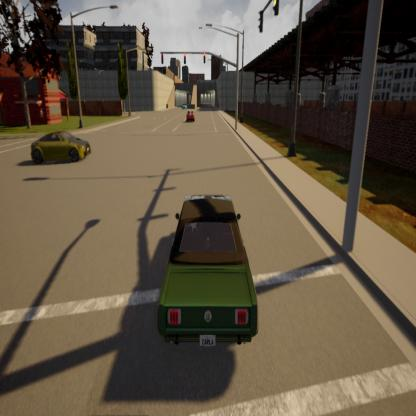Cars: (143, 177, 265, 364), (31, 119, 96, 177), (186, 108, 196, 124), (181, 100, 188, 110)
